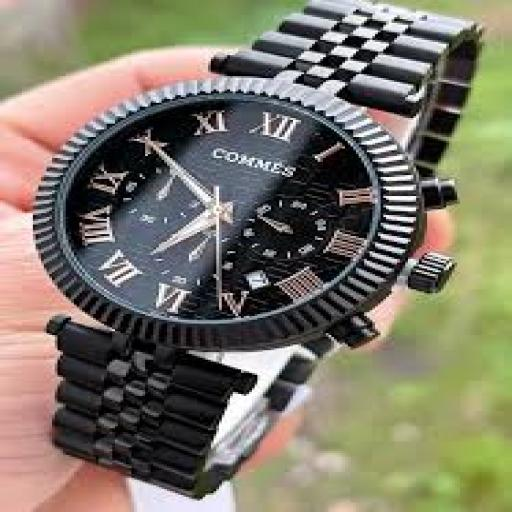KolSaati: (7, 3, 473, 474)
